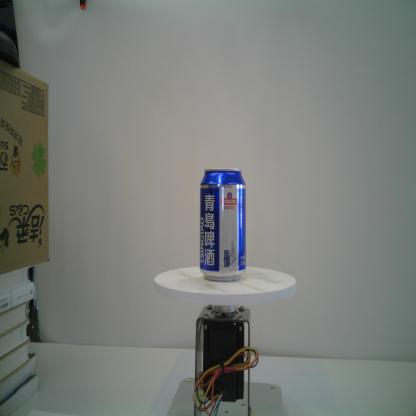Alcohol: (198, 166, 248, 283)
